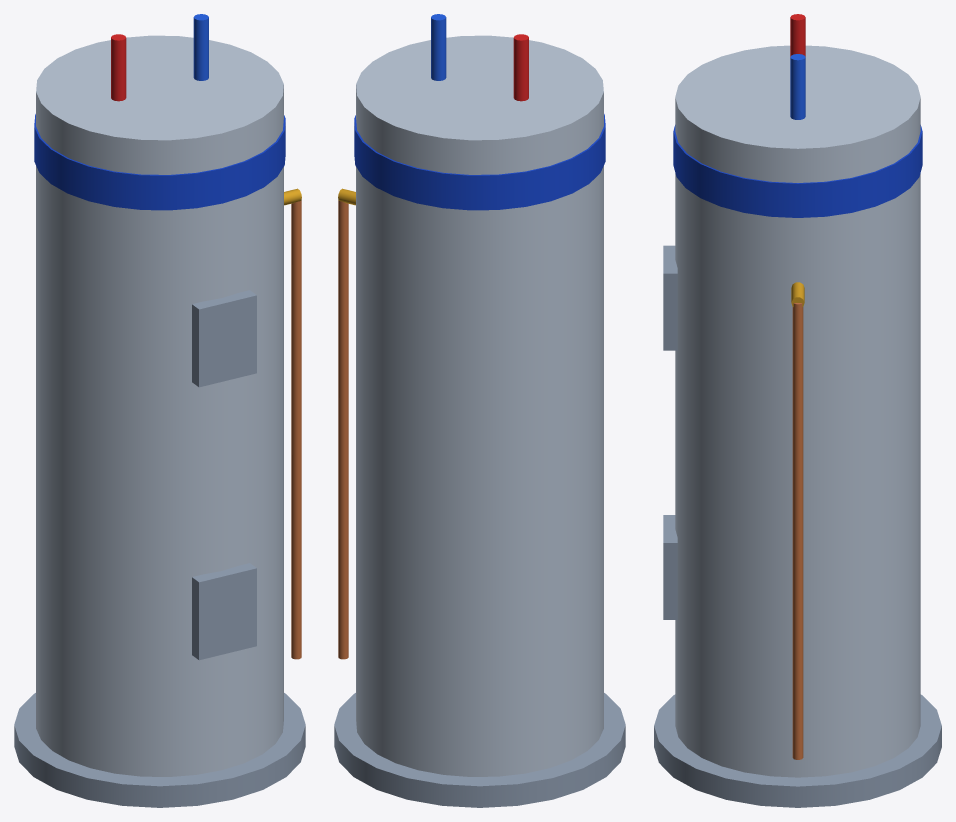
The model's file is wh-tank-electric-50.glb.
3 renders of one model, left to right at view 1: azimuth 30°, elevation 25°; view 2: azimuth 150°, elevation 25°; view 3: azimuth 270°, elevation 25°, orthographic.
Visible parts, largest first — view 1: plumbing-equipment-water-heater-tank-electric; view 2: plumbing-equipment-water-heater-tank-electric; view 3: plumbing-equipment-water-heater-tank-electric.
Part boxes in pixels (bbox=[...]): plumbing-equipment-water-heater-tank-electric: bbox=[14, 14, 305, 807]; plumbing-equipment-water-heater-tank-electric: bbox=[334, 14, 625, 807]; plumbing-equipment-water-heater-tank-electric: bbox=[654, 14, 941, 807].
Size of the model in its own units: 0.6455 by 1.66 by 0.61.
